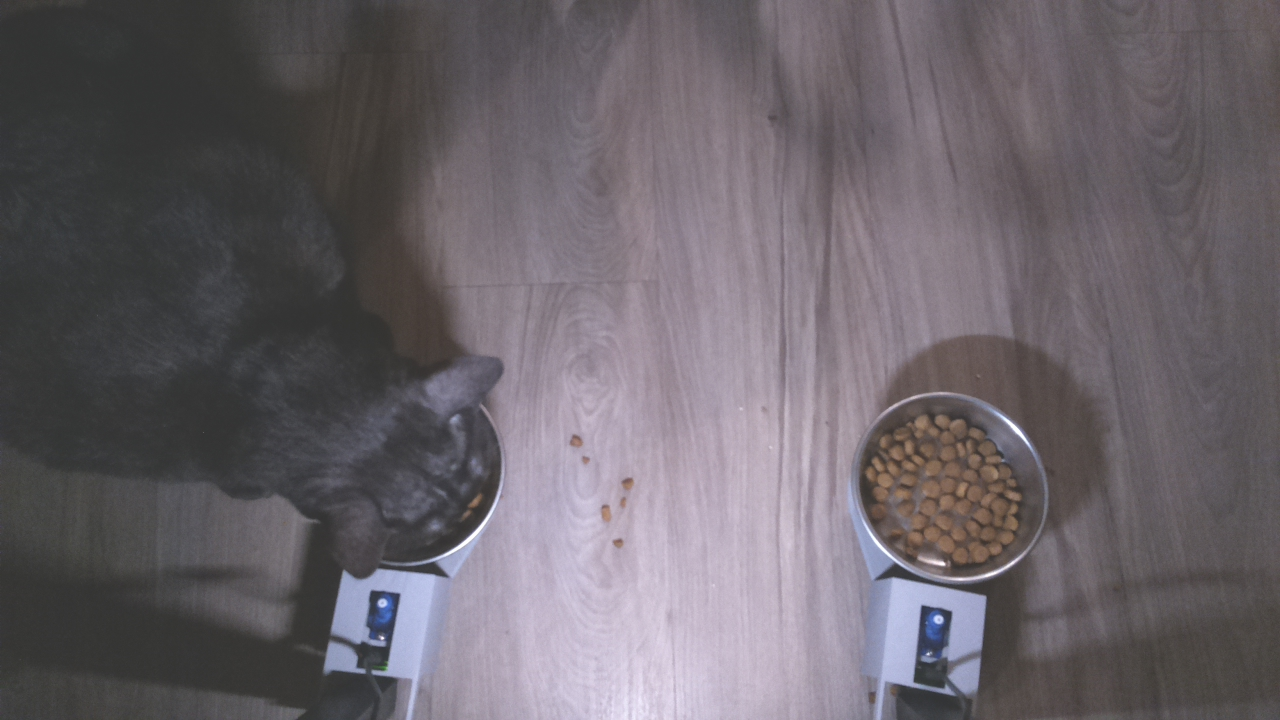open_bowl: (848, 385, 1055, 586)
saki_eating: (284, 299, 507, 584)
